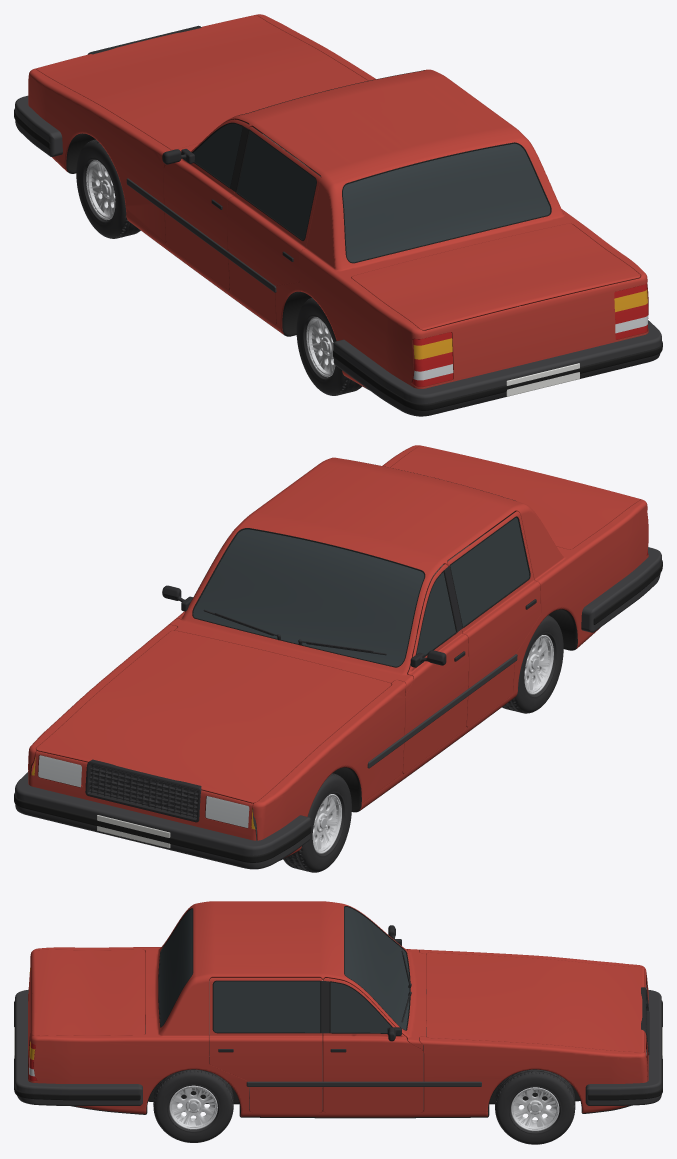
Rendered from nordvik.glb.
The picture shows the model from 3 angles, top to bottom: view 1: azimuth 30°, elevation 25°; view 2: azimuth 150°, elevation 25°; view 3: azimuth 270°, elevation 25°; orthographic projection. The views are drawn at different scales.
Parts seen in each view (by area): view 1: Body, Hood, Glass_Rear, Trunk, Fender_FL, Bumper_R, Door_RL, Door_FL, Glass_RL, Wheel_FL_Tyre, Bumper_R_Strip, Glass_FL (+9 smaller); view 2: Body, Hood, Glass_Front, Fender_FL, Trunk, Bumper_F, Door_RL, Door_FL, Glass_RL, Grille, Wheel_FL_Tyre, Bumper_F_Strip (+10 smaller); view 3: Body, Hood, Fender_FR, Trunk, Door_RR, Door_FR, Glass_RR, Glass_Front, Bumper_R, Wheel_FR_Tyre, Wheel_RR_Tyre, Glass_Rear (+9 smaller).
Part boxes in pixels (x1,y1,x2,y2): Body: [55, 69, 648, 389]; Hood: [36, 15, 367, 149]; Glass_Rear: [342, 142, 551, 263]; Trunk: [351, 223, 640, 330]; Fender_FL: [28, 68, 172, 241]; Bumper_R: [333, 320, 661, 416]; Door_RL: [227, 126, 321, 323]; Door_FL: [164, 119, 248, 289]; Glass_RL: [235, 129, 316, 240]; Wheel_FL_Tyre: [76, 139, 140, 238]; Bumper_R_Strip: [333, 341, 662, 410]; Glass_FL: [192, 122, 243, 188]; Body: [29, 445, 648, 860]; Hood: [36, 630, 391, 803]; Glass_Front: [192, 528, 425, 667]; Fender_FL: [253, 680, 405, 857]; Trunk: [390, 445, 640, 549]; Bumper_F: [15, 772, 310, 869]; Door_RL: [447, 511, 540, 726]; Door_FL: [402, 564, 468, 773]; Glass_RL: [449, 516, 530, 628]; Grille: [85, 759, 201, 822]; Wheel_FL_Tyre: [283, 773, 351, 872]; Bumper_F_Strip: [14, 793, 311, 862]; Body: [28, 901, 648, 1118]; Hood: [426, 952, 644, 1052]; Fender_FR: [419, 1037, 647, 1111]; Trunk: [32, 949, 145, 1035]; Door_RR: [209, 977, 322, 1112]; Door_FR: [323, 978, 423, 1112]; Glass_RR: [212, 980, 321, 1033]; Glass_Front: [344, 906, 410, 1030]; Bumper_R: [15, 989, 142, 1105]; Wheel_FR_Tyre: [495, 1069, 575, 1144]; Wheel_RR_Tyre: [153, 1069, 233, 1142]; Glass_Rear: [158, 908, 193, 1027].
Size of the model in its own units: 1.99 by 1.43 by 5.02.
